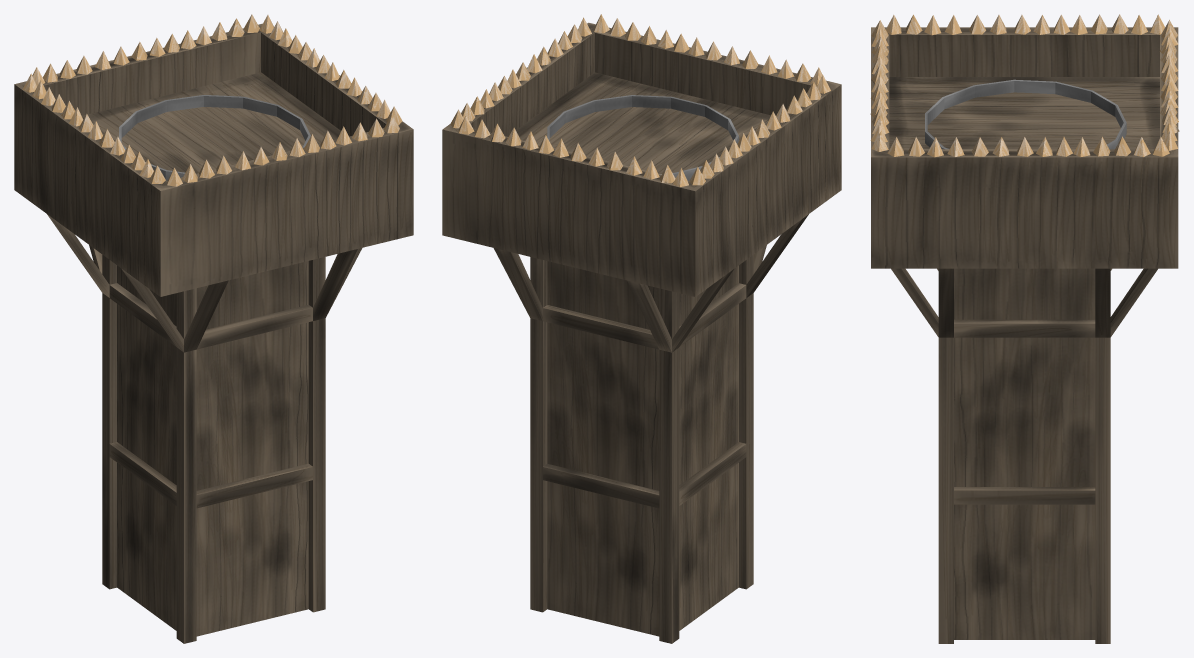
The model's file is tour_catapulte_age1.obj.
3 views of the same model, side by side, from view 1: azimuth 30°, elevation 25°; view 2: azimuth 150°, elevation 25°; view 3: azimuth 270°, elevation 25° (orthographic). The views are drawn at different scales.
Parts seen in each view (by area): view 1: Plane_Plane.001; view 2: Plane_Plane.001; view 3: Plane_Plane.001.
Boxes of the visible parts, box(x1,y1,x2,y2) form: Plane_Plane.001: box(14, 14, 413, 643); Plane_Plane.001: box(442, 14, 841, 643); Plane_Plane.001: box(870, 14, 1179, 643).
Bounding box in the file's own units: 2.01 × 3.82 × 2.01.
